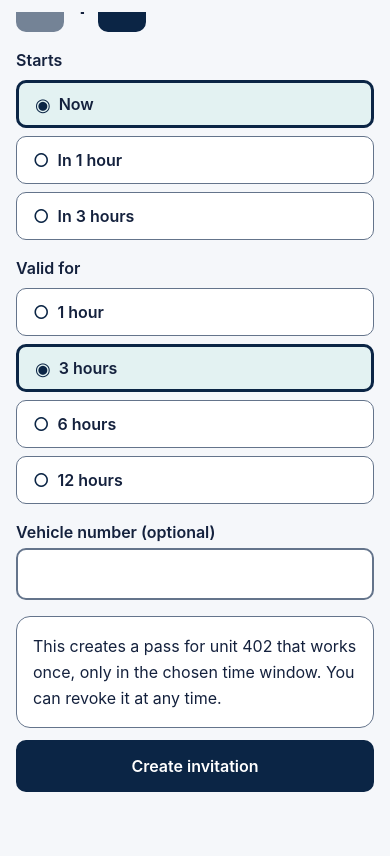
Test: invite creation › the purpose is required before anything is sent
(page scrolled)
What coordinates should you click on to do the following:
click the button "Create invitation"
I would click on:
 (195, 766)
Its box is x1=16 y1=740 x2=374 y2=792.
(page scrolled)
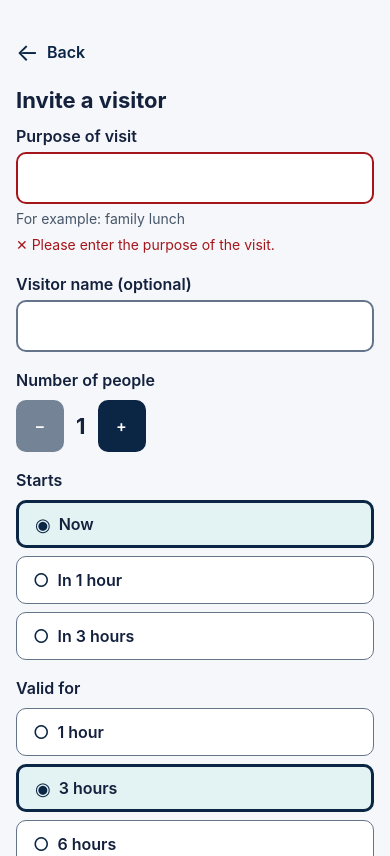
Expected: the text "✕ Please enter the purpose of the visit." is shown, x1=16 y1=236 x2=275 y2=253
